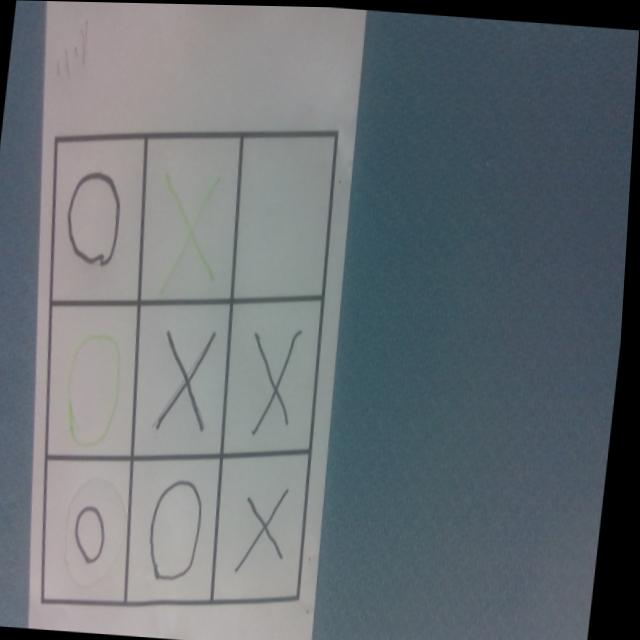null: (229, 126, 339, 305)
o: (66, 332, 130, 454), (151, 477, 212, 584), (65, 169, 127, 268), (77, 503, 116, 565)
table: (7, 112, 348, 626)
x: (161, 172, 236, 291), (162, 327, 220, 432), (251, 327, 304, 435), (245, 484, 296, 571)
